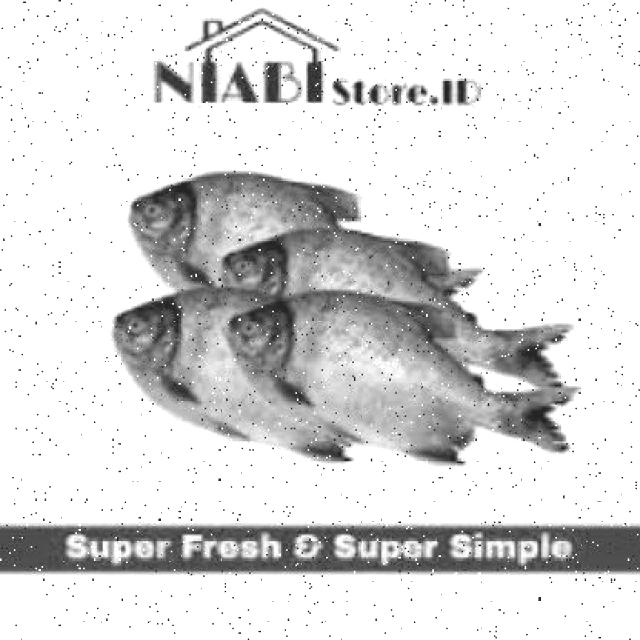ikan-pacu: (224, 291, 512, 444), (116, 286, 281, 448), (125, 173, 318, 279), (222, 227, 456, 296)
